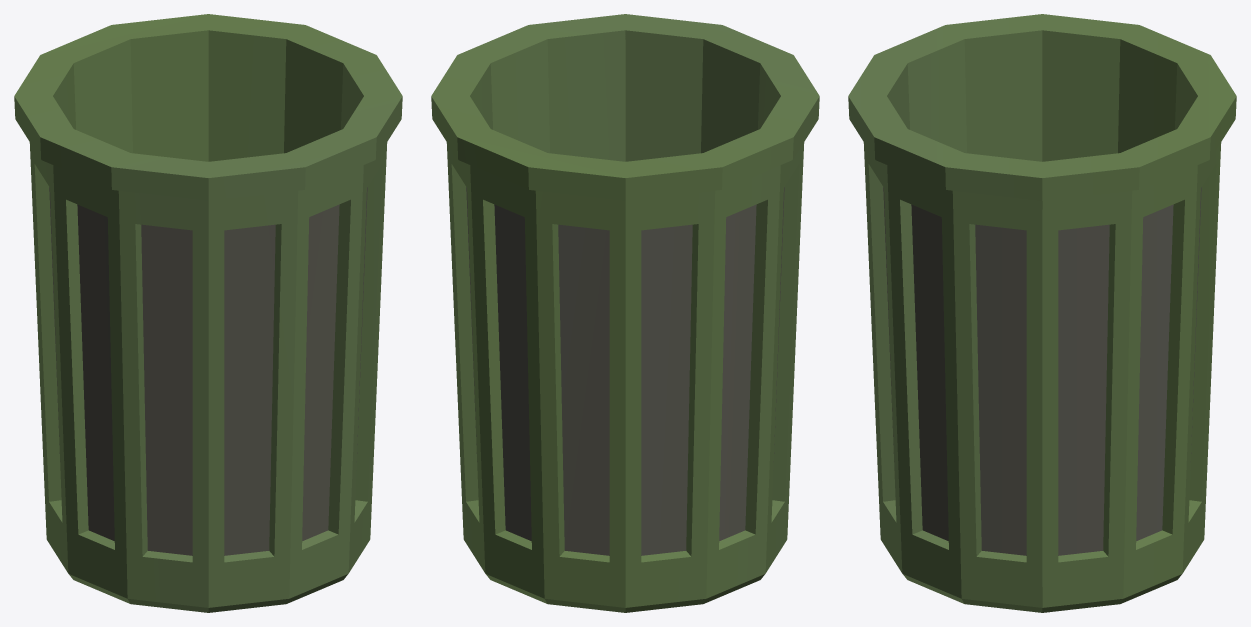
Rendered from Trash_01.fbx.
3 views of the same model, side by side, from view 1: azimuth 30°, elevation 25°; view 2: azimuth 150°, elevation 25°; view 3: azimuth 270°, elevation 25° (orthographic).
Visible parts, largest first — view 1: Trash_01; view 2: Trash_01; view 3: Trash_01.
Boxes of the visible parts, left/top/right/bottom form: Trash_01: left=14, top=14, right=402, bottom=612; Trash_01: left=431, top=14, right=819, bottom=612; Trash_01: left=848, top=14, right=1236, bottom=612.
Bounding box in the file's own units: 0.6446 × 0.8257 × 0.6446.
